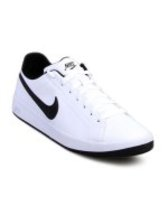shoes: (9, 49, 158, 160)
